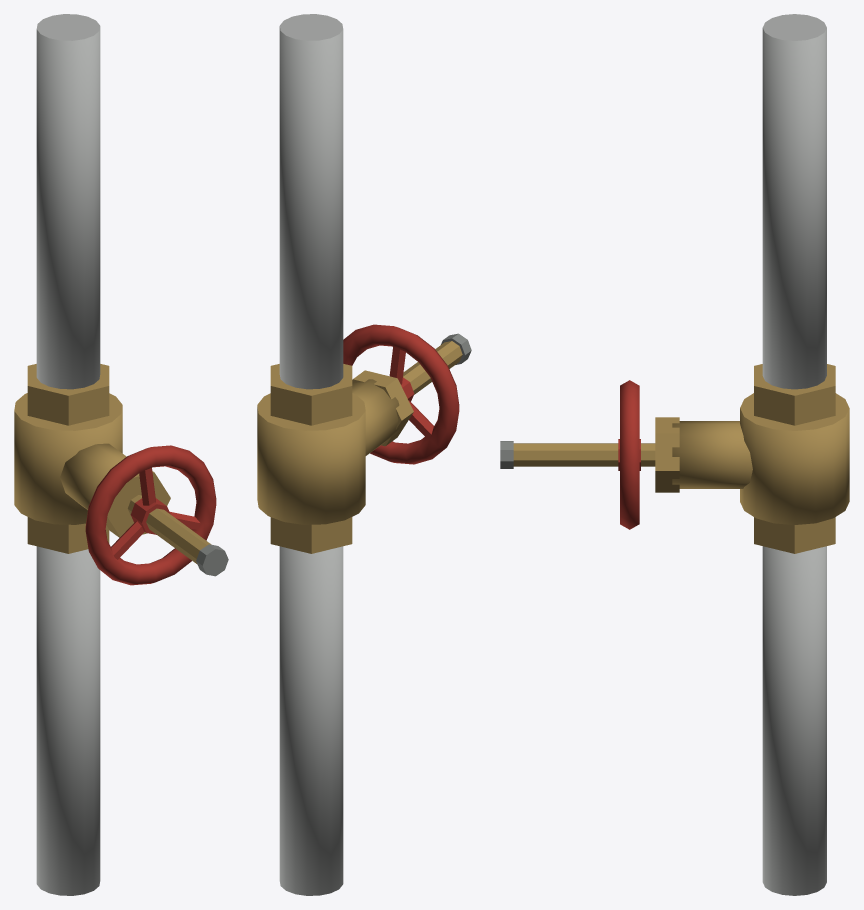
File: valve_open_ns.obj
The picture shows the model from 3 angles, left to right: view 1: azimuth 30°, elevation 25°; view 2: azimuth 150°, elevation 25°; view 3: azimuth 270°, elevation 25°; orthographic projection.
Parts seen in each view (by area): view 1: pipe4, pipe1, valve_body, valve_wheel, valve_hex4, valve_bonnet, valve_hex1, valve_stem, valve_nut, valve_stem_tip, valve_hub, valve_spoke1 (+1 smaller); view 2: pipe4, pipe1, valve_body, valve_wheel, valve_hex4, valve_hex1, valve_bonnet, valve_nut, valve_stem; view 3: pipe4, pipe1, valve_body, valve_bonnet, valve_hex4, valve_stem, valve_wheel, valve_hex1, valve_nut.
Boxes of the visible parts, x1,y1,x2,y2 form: pipe4: (36, 14, 100, 389); pipe1: (36, 546, 100, 895); valve_body: (14, 393, 122, 524); valve_wheel: (85, 445, 216, 585); valve_hex4: (27, 364, 109, 425); valve_bonnet: (60, 443, 126, 523); valve_hex1: (27, 517, 109, 553); valve_stem: (127, 495, 211, 564); valve_nut: (106, 471, 170, 537); valve_stem_tip: (196, 544, 228, 576); valve_hub: (130, 498, 170, 534); valve_spoke1: (111, 521, 144, 559); pipe4: (279, 14, 343, 389); pipe1: (279, 546, 343, 895); valve_body: (257, 393, 365, 524); valve_wheel: (343, 324, 459, 464); valve_hex4: (270, 364, 352, 425); valve_hex1: (270, 517, 352, 553); valve_bonnet: (352, 379, 399, 455); valve_nut: (352, 370, 413, 446); valve_stem: (403, 341, 462, 394); pipe4: (762, 14, 826, 389); pipe1: (762, 546, 826, 895); valve_body: (740, 393, 849, 524); valve_bonnet: (672, 421, 752, 488); valve_hex4: (754, 364, 835, 425); valve_stem: (513, 443, 655, 466); valve_wheel: (620, 380, 639, 529); valve_hex1: (754, 517, 835, 553); valve_nut: (655, 417, 679, 492).
Bounding box in the file's own units: 0.16 × 1 × 0.37.
4 materials, 4 textured.
